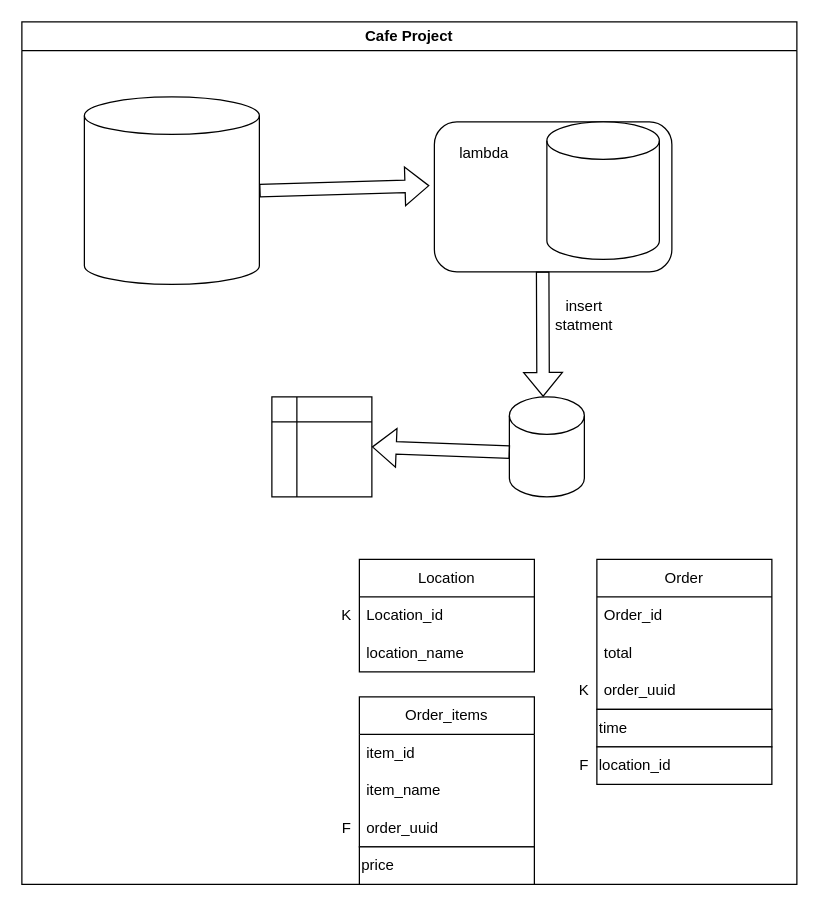
Image size: 819x906. Some labels were removed from this diagram. Each missing label, with the centre of its shape:
Extract transform load: pixel 602 190
Grafana: pixel 321 446
redshift: pixel 546 446
Upload bucket: pixel 171 190
